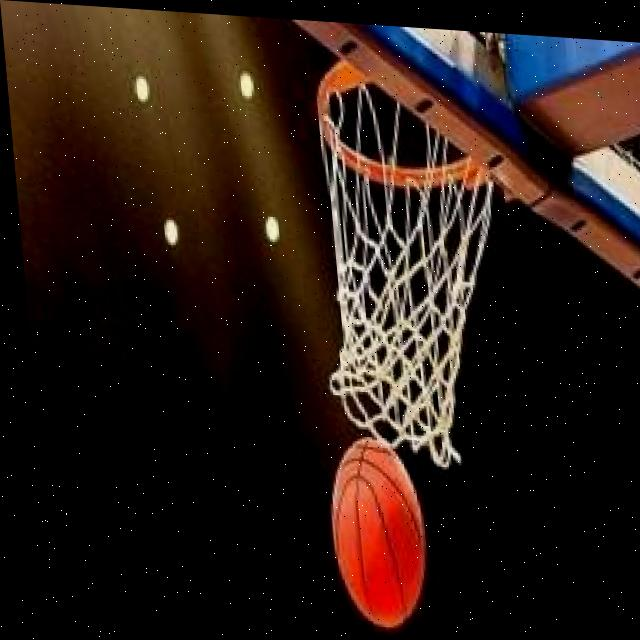basketball: (322, 430, 437, 637)
hoop: (295, 47, 527, 475)
